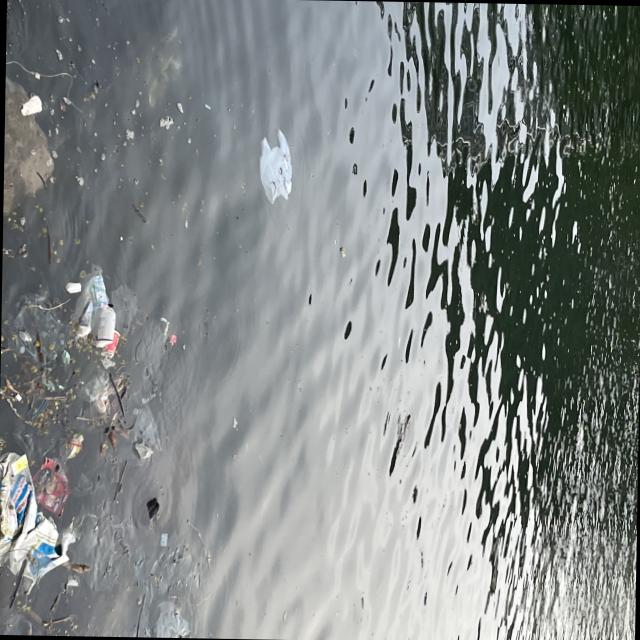foam: (65, 282, 82, 294)
plastic bag: (258, 124, 292, 203)
plastic bottle: (97, 304, 116, 346), (100, 331, 120, 359)
